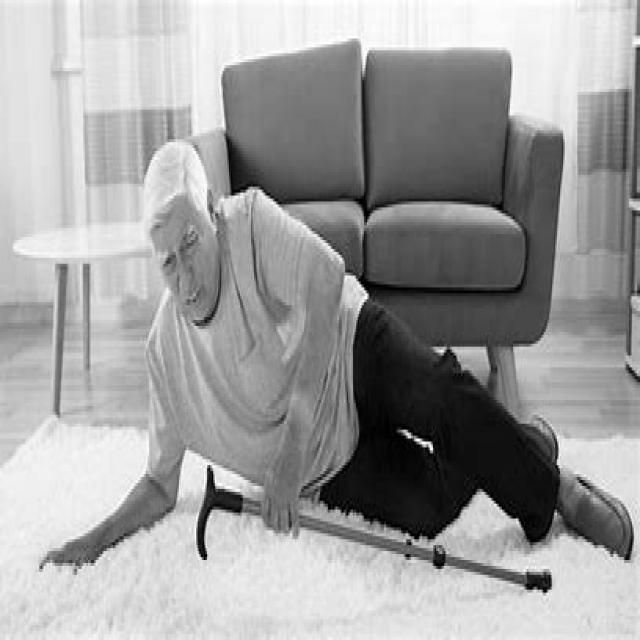lie: (146, 117, 633, 582)
